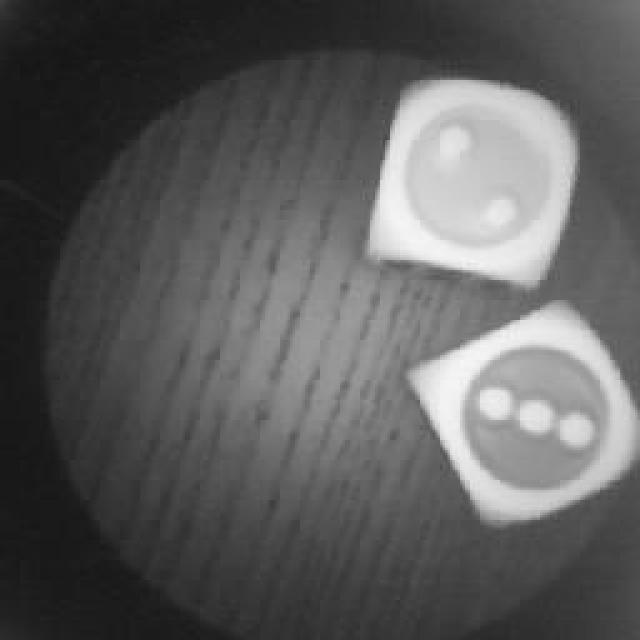dice_2: (370, 70, 578, 292)
dice_3: (420, 298, 640, 522)
